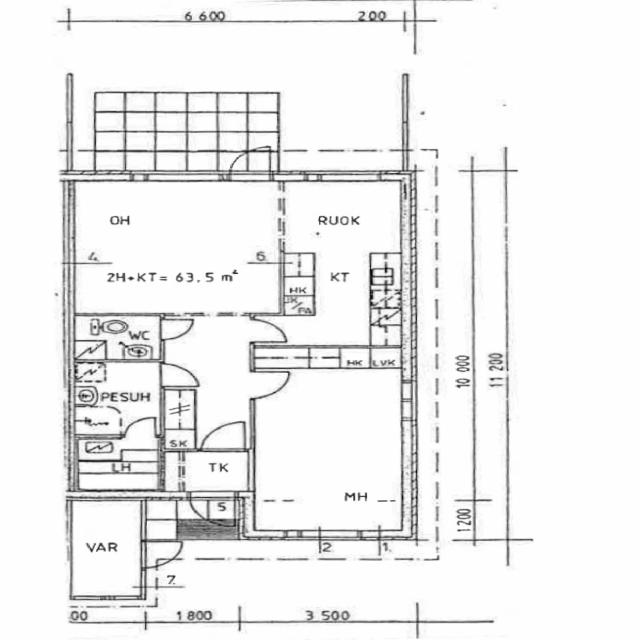door: (190, 491, 234, 529), (230, 144, 270, 181), (201, 421, 245, 452), (141, 542, 186, 568), (250, 372, 294, 398), (250, 319, 289, 342), (160, 364, 200, 386), (124, 414, 155, 438), (160, 319, 194, 339)
